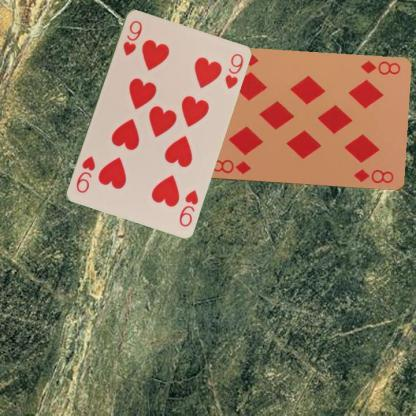8d: (208, 157, 252, 176), (358, 58, 402, 76)
9h: (176, 187, 200, 228), (120, 18, 143, 58)
